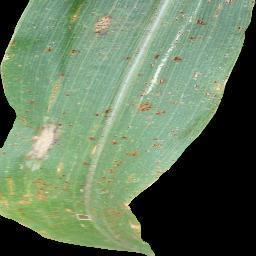Corn_Common_Rust: (0, 113, 89, 222), (94, 135, 169, 256), (132, 66, 174, 120), (0, 14, 30, 82), (193, 68, 232, 110), (187, 0, 239, 26), (45, 38, 95, 65), (92, 0, 124, 39), (149, 38, 197, 62), (36, 74, 66, 112), (96, 100, 117, 124), (172, 11, 187, 31), (123, 55, 135, 65)
